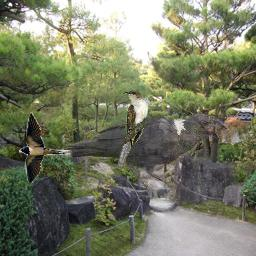Crow: (61, 112, 230, 190)
Cuckoo: (117, 90, 149, 169)
Swallow: (19, 112, 73, 185)
